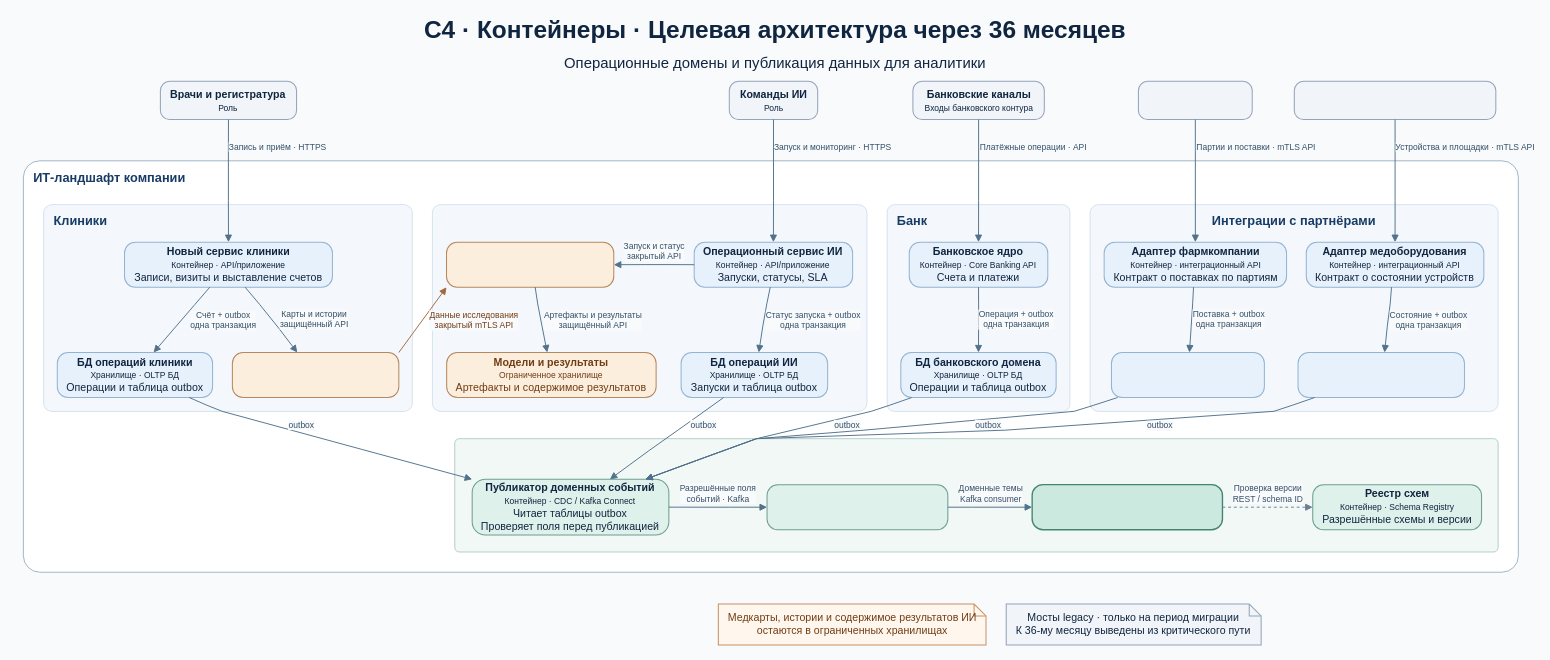
The diagram is 1550 pixels wide and 660 high, and some of its shapes have lost their labels. Here are the shapes that lost their labels. From the top down, the box of each, then its label:
(1137, 80, 1252, 120): Фармкомпания Внешняя система · API
(1293, 80, 1496, 120): Производитель медоборудования Внешняя система · API
(446, 241, 614, 287): Медицинский ИИ Ограниченный контур · inference API Обработка исследований
(432, 204, 867, 411): ИИ-направление
(231, 352, 399, 398): Медицинские карты Ограниченное хранилище · EHR Истории, записи и документы
(1111, 352, 1264, 398): БД поставок фармы Хранилище · OLTP БД Поставки и таблица outbox
(1297, 352, 1465, 398): БД эксплуатации устройств Хранилище · OLTP БД Состояние и таблица outbox
(766, 484, 948, 530): Шина событий Контейнер · Apache Kafka Темы по домену и региону · ACL
(454, 438, 1498, 552): Региональная публикация данных
(1031, 484, 1223, 530): Проектор доменного потока Контейнер · Apache Flink Формирует доменные продукты →
